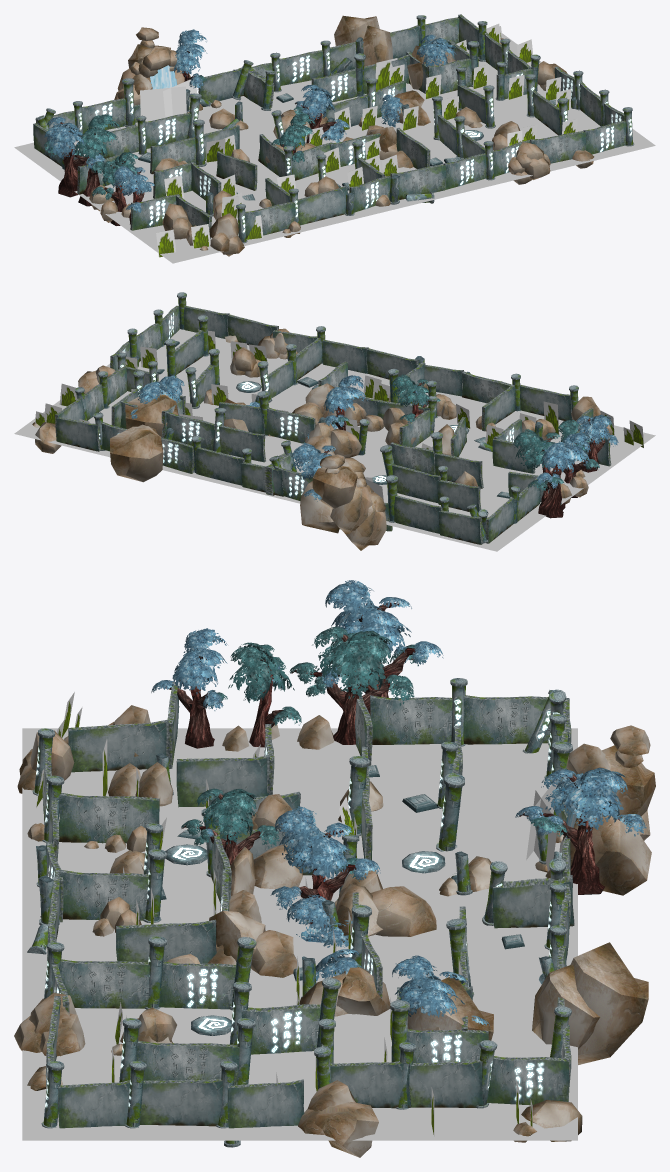
File: FBX level.fbx
3 renders of one model, top to bottom at view 1: azimuth 30°, elevation 25°; view 2: azimuth 150°, elevation 25°; view 3: azimuth 270°, elevation 25°, orthographic. The views are drawn at different scales.
Parts seen in each view (by area): view 1: pPlane16, polySurface375, polySurface452, polySurface228, polySurface332, polySurface345, polySurface292, polySurface401, polySurface418, polySurface343, pPlane18, polySurface321 (+61 smaller); view 2: pPlane16, polySurface431, polySurface228, polySurface375, polySurface452, polySurface408, polySurface332, polySurface418, polySurface390, polySurface292, polySurface286, polySurface432 (+50 smaller); view 3: pPlane16, polySurface401, polySurface332, polySurface431, polySurface292, polySurface228, polySurface323, polySurface326, polySurface531, polySurface337, polySurface352, polySurface353 (+53 smaller).
Boxes of the visible parts, x1,y1,x2,y2 form: pPlane16: (14, 33, 655, 263); polySurface375: (390, 153, 486, 199); polySurface452: (530, 120, 626, 163); polySurface228: (44, 117, 105, 197); polySurface332: (74, 114, 120, 206); polySurface345: (298, 185, 347, 225); polySurface292: (293, 84, 349, 143); polySurface401: (173, 29, 207, 89); polySurface418: (279, 50, 323, 85); polySurface343: (145, 113, 191, 148); pPlane18: (140, 86, 186, 121); polySurface321: (245, 202, 295, 238); pPlane16: (14, 329, 655, 551); polySurface431: (110, 426, 163, 482); polySurface228: (536, 433, 591, 518); polySurface375: (322, 339, 418, 379); polySurface452: (183, 306, 278, 345); polySurface408: (312, 466, 357, 508); polySurface332: (513, 429, 572, 510); polySurface418: (195, 447, 244, 485); polySurface390: (394, 495, 442, 533); polySurface292: (323, 375, 368, 430); polySurface286: (265, 407, 315, 443); polySurface432: (125, 393, 178, 437); pPlane16: (22, 728, 577, 1140); polySurface401: (515, 767, 646, 894); polySurface332: (289, 626, 414, 744); polySurface431: (570, 942, 648, 1064); polySurface292: (270, 806, 380, 927); polySurface228: (320, 580, 443, 714); polySurface323: (59, 793, 159, 843); polySurface326: (68, 719, 168, 772); polySurface531: (59, 959, 149, 1008); polySurface337: (151, 628, 227, 748); polySurface352: (370, 695, 452, 744); polySurface353: (463, 695, 550, 744).
Size of the model in its own units: 108 by 20.16 by 66.38.
